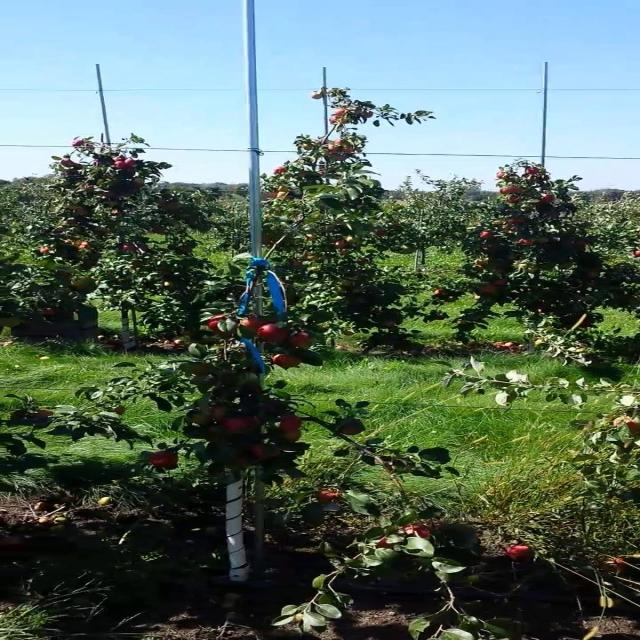apple: (262, 324, 292, 344), (504, 544, 533, 561), (148, 452, 178, 468), (205, 316, 228, 336), (255, 444, 283, 460), (241, 316, 268, 331), (404, 528, 434, 540), (291, 332, 313, 348), (276, 356, 304, 368), (284, 416, 306, 430), (227, 420, 252, 432), (604, 560, 629, 572), (618, 420, 638, 435), (340, 424, 363, 436), (319, 492, 341, 504), (191, 364, 213, 376), (376, 536, 396, 548), (6, 316, 25, 328), (625, 420, 639, 435), (191, 416, 213, 425), (284, 432, 302, 443), (340, 428, 363, 436), (212, 408, 228, 419), (35, 412, 55, 419), (234, 460, 251, 468), (113, 408, 128, 416)
